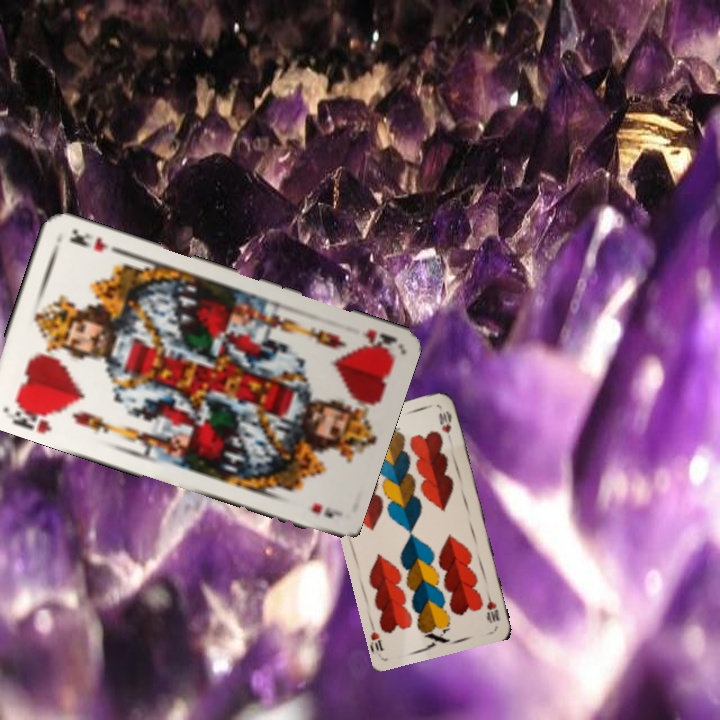H10: (482, 587, 502, 625)
HK: (8, 398, 59, 436), (359, 325, 398, 357)
